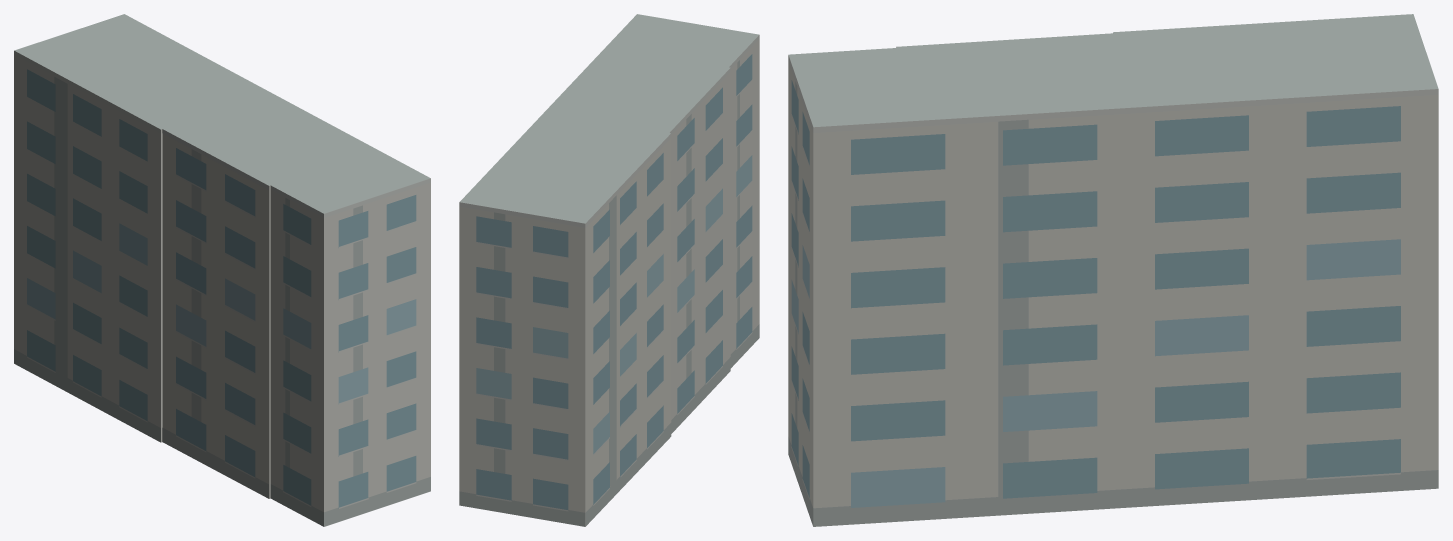
File: survey-upis-32917636.glb
3 views of the same model, side by side, from view 1: azimuth 30°, elevation 25°; view 2: azimuth 150°, elevation 25°; view 3: azimuth 270°, elevation 25° (orthographic). The views are drawn at different scales.
Visible parts, largest first — view 1: survey-upis-32917636.tmp; view 2: survey-upis-32917636.tmp; view 3: survey-upis-32917636.tmp.
Boxes of the visible parts, bbox=[...] form: survey-upis-32917636.tmp: bbox=[14, 14, 430, 526]; survey-upis-32917636.tmp: bbox=[459, 14, 759, 526]; survey-upis-32917636.tmp: bbox=[788, 14, 1438, 526].
Bounding box in the file's own units: 10.46 × 17.2 × 25.37.
